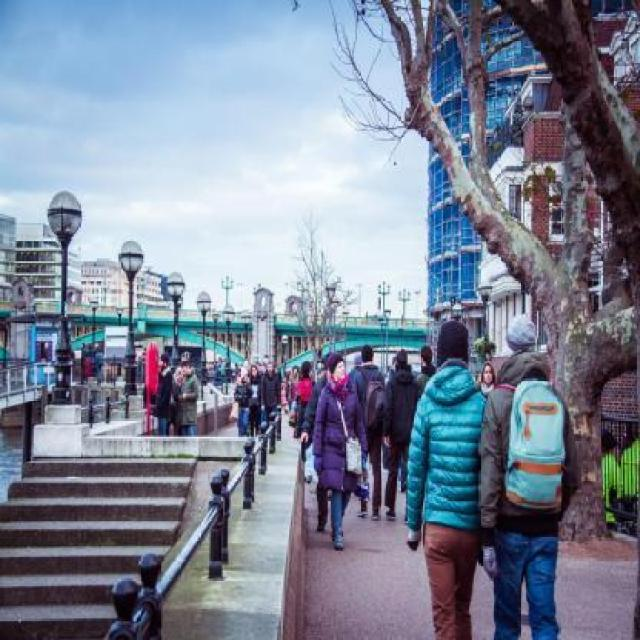backpack: (502, 374, 568, 515), (363, 378, 386, 429), (345, 436, 363, 478)
